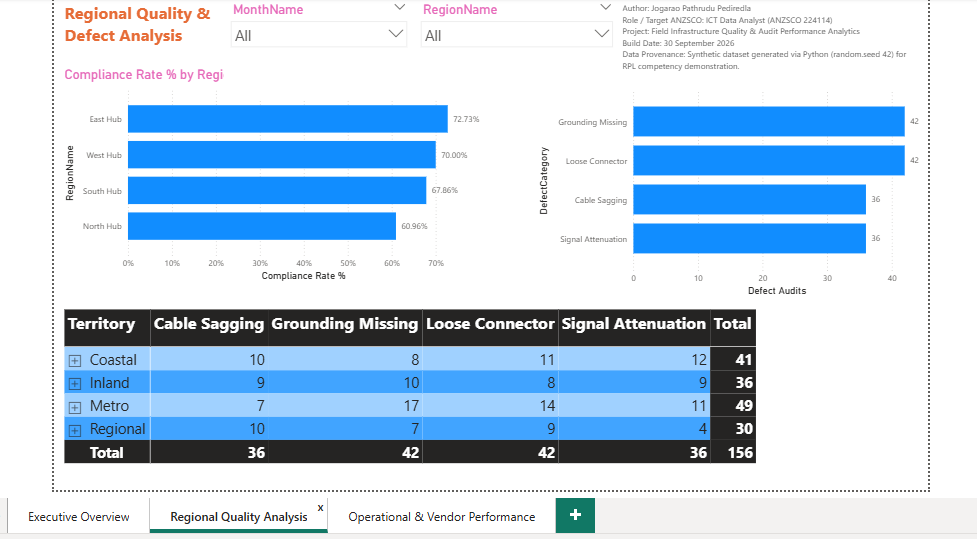

What the dashboard file says about the page in this screenshot:
{"tool":"powerbi","page":{"name":"Regional Quality Analysis","canvas":[1280,720],"ordinal":1},"visuals":[{"type":"textbox","box":[10,0,280,280],"z":0},{"type":"slicer","fields":{"Values":["dim_regions.Territory"]},"box":[289.8,0,279.5,281],"z":1000},{"type":"clusteredBarChart","fields":{"Category":["dim_regions.RegionName"],"Y":["_Measures.Compliance Rate %"]},"box":[10.2,101,629.3,317.6],"z":2000},{"type":"clusteredBarChart","fields":{"Category":["fact_audits.DefectCategory"],"Y":["_Measures.Defect Audits"]},"box":[703.9,101,576.6,339.5],"z":3000},{"type":"pivotTable","fields":{"Rows":["dim_regions.Territory","dim_regions.RegionName"],"Columns":["fact_audits.DefectCategory"],"Values":["_Measures.Defect Audits"]},"box":[10.2,450.7,1255.6,269.3],"z":4000},{"type":"slicer","fields":{"Values":["dim_regions.RegionName"]},"box":[526.8,0,301.5,150.7],"z":4001},{"type":"slicer","fields":{"Values":["Dim_Date.MonthName"]},"box":[248.8,0,278,150.7],"z":4002},{"type":"textbox","box":[826.8,0,434.6,125.9],"z":4003}]}

Visuals, with their boxes on the page's 1280x720 design canvas (x1, y1, x2, y2). These are canvas units, not pixel positions in the 977x539 screenshot, which may show the page scaled, cropped or inside an application window:
textbox: <box>10,0,290,280</box>
slicer - dim_regions.Territory: <box>290,0,569,281</box>
clusteredBarChart - dim_regions.RegionName x _Measures.Compliance Rate %: <box>10,101,640,419</box>
clusteredBarChart - fact_audits.DefectCategory x _Measures.Defect Audits: <box>704,101,1280,440</box>
pivotTable - dim_regions.Territory x dim_regions.RegionName: <box>10,451,1266,720</box>
slicer - dim_regions.RegionName: <box>527,0,828,151</box>
slicer - Dim_Date.MonthName: <box>249,0,527,151</box>
textbox: <box>827,0,1261,126</box>
